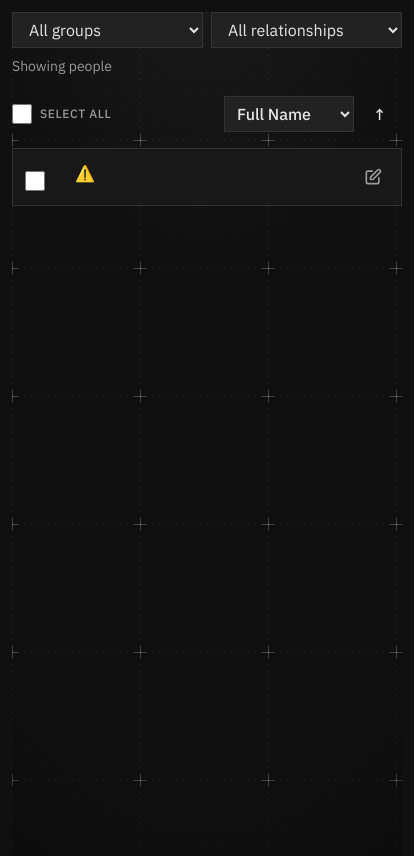
Test: PeopleListClient › Selection / checkboxes › shows floating action bar when items are selected
The width and height of the screenshot is (414, 856).
Step 1. Click the 2nd checkbox → (35, 181), box [25,171,45,191]
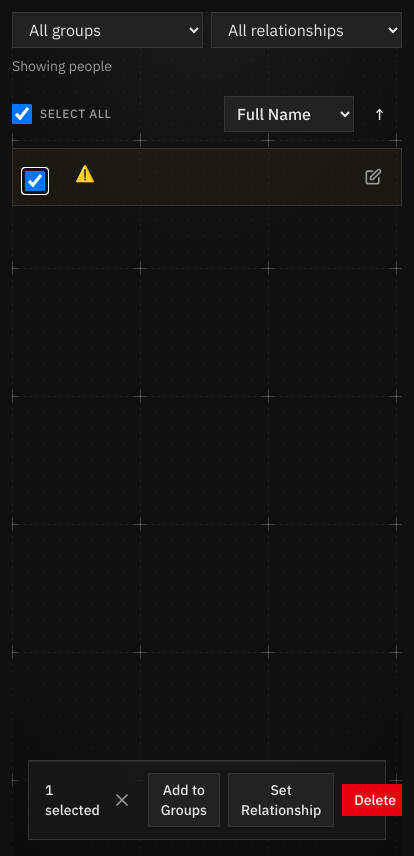
Expected: the text "1 selected" is shown, [45,780,100,820]
